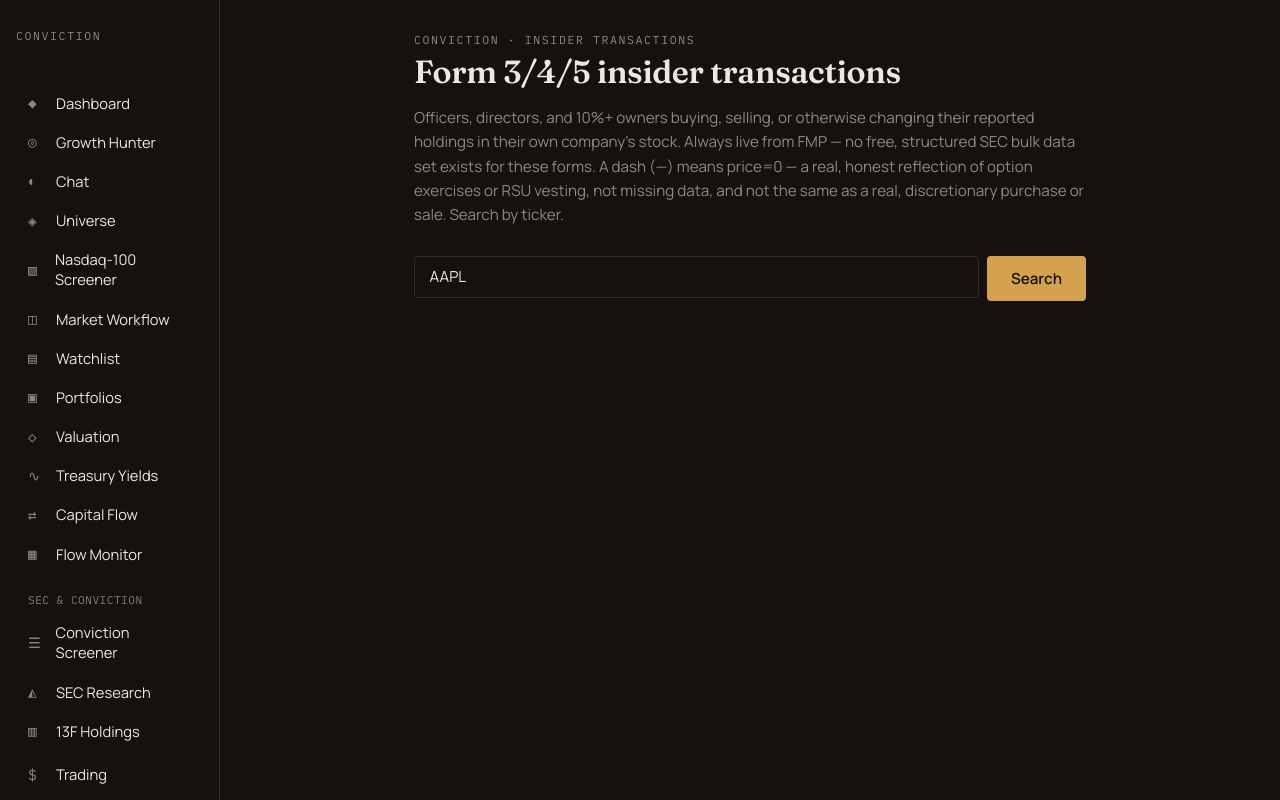
it: Insider Transactions page › displays a real transaction with its reporting person and real price
The width and height of the screenshot is (1280, 800).
Click the button "Search": (1036, 278) [987,256,1086,300]
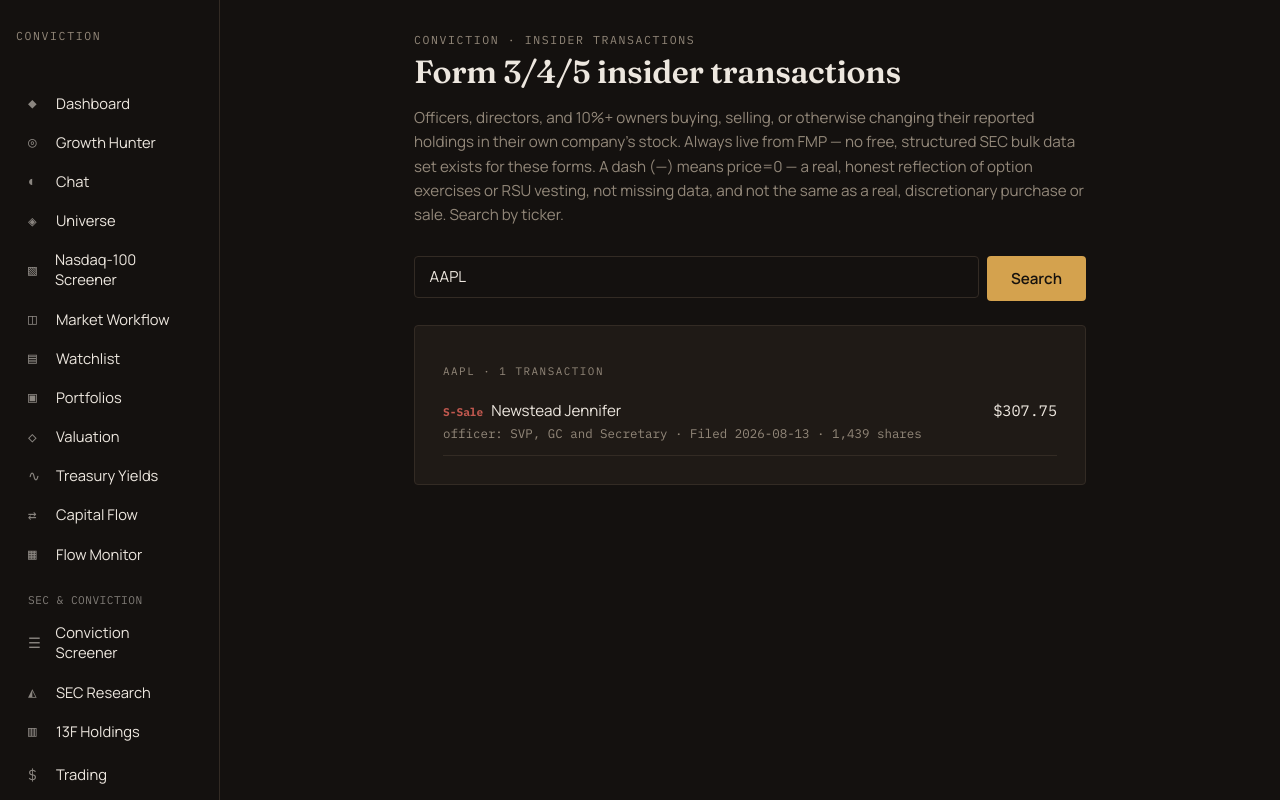
Result: the text "Newstead Jennifer" is shown at [491,400,621,421]
Result: the text "$307.75" is shown at [993,400,1057,420]
Result: the text "S-Sale" is shown at [443,405,483,419]
